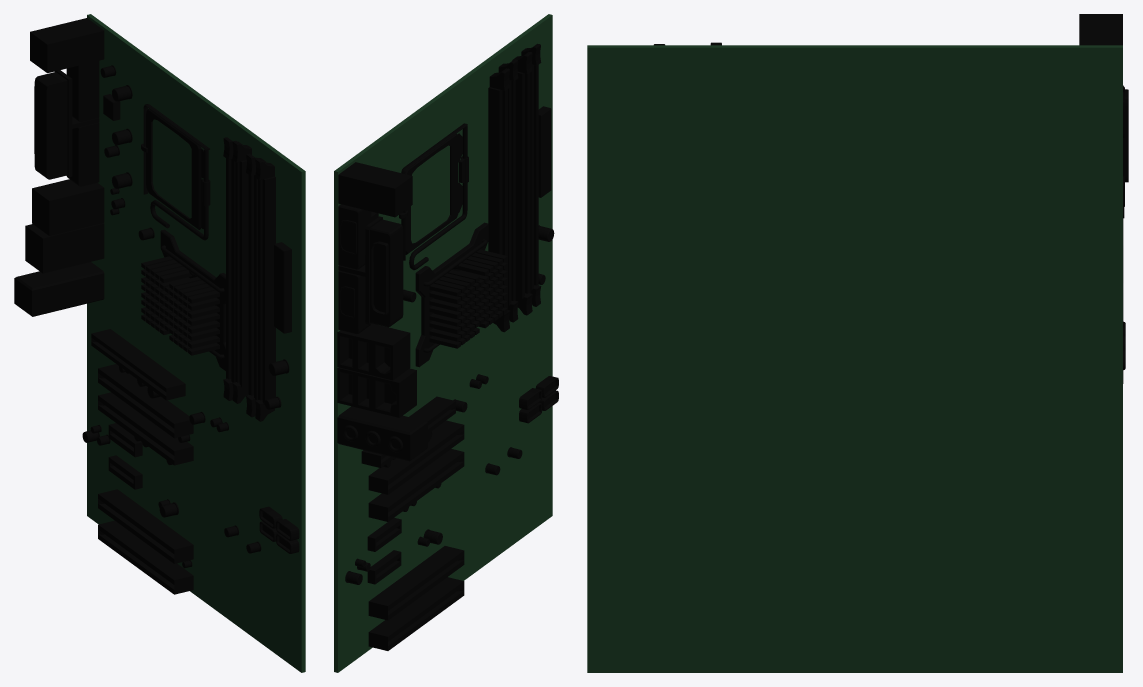
File: Motherboard.fbx
3 views of the same model, side by side, from view 1: azimuth 30°, elevation 25°; view 2: azimuth 150°, elevation 25°; view 3: azimuth 270°, elevation 25° (orthographic). The views are drawn at different scales.
Parts seen in each view (by area): view 1: pCube786; view 2: pCube786; view 3: pCube786.
Part boxes in pixels (box(x1,y1,x2,y2)): pCube786: box(14, 14, 305, 672); pCube786: box(334, 14, 558, 672); pCube786: box(587, 14, 1128, 672).
Bounding box in the file's own units: 63.53 × 398 × 312.
